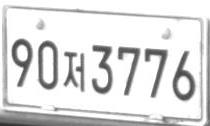0: (36, 39, 58, 89)
3: (91, 44, 113, 95)
6: (171, 50, 196, 101)
7: (116, 45, 141, 96), (143, 47, 168, 98)
9: (10, 37, 33, 87)
저: (62, 51, 85, 92)
